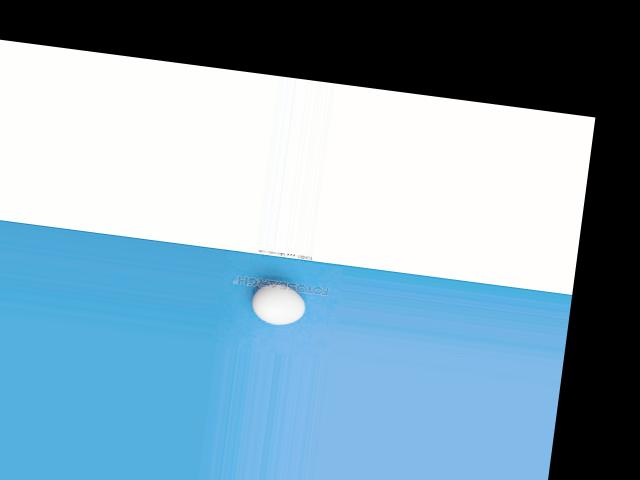egg: (249, 279, 307, 327)
